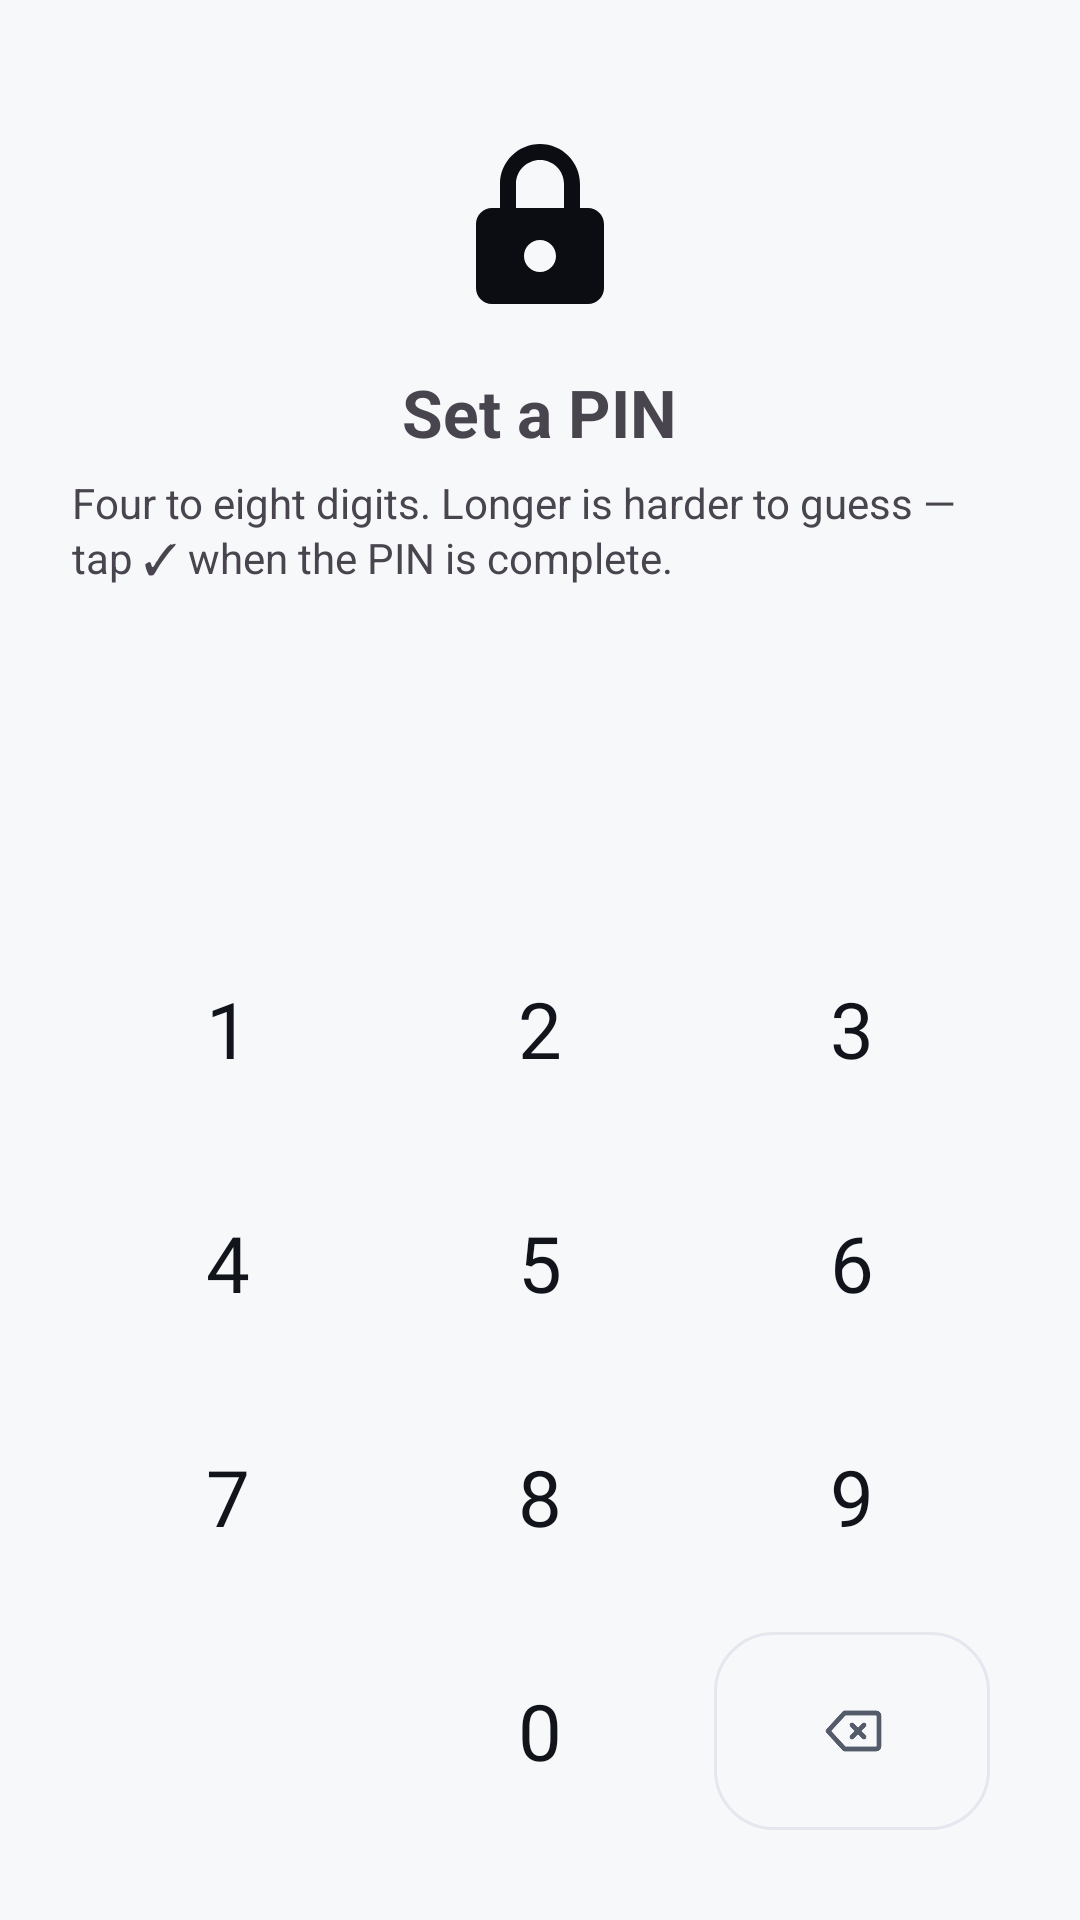

Where icons sit on this 1080×1920 app screen, as (x1=x1, y1=y1, x2=x2, y2=y2):
Delete: (x1=825, y1=1710, x2=882, y2=1752)
lock: (x1=476, y1=144, x2=604, y2=304)
